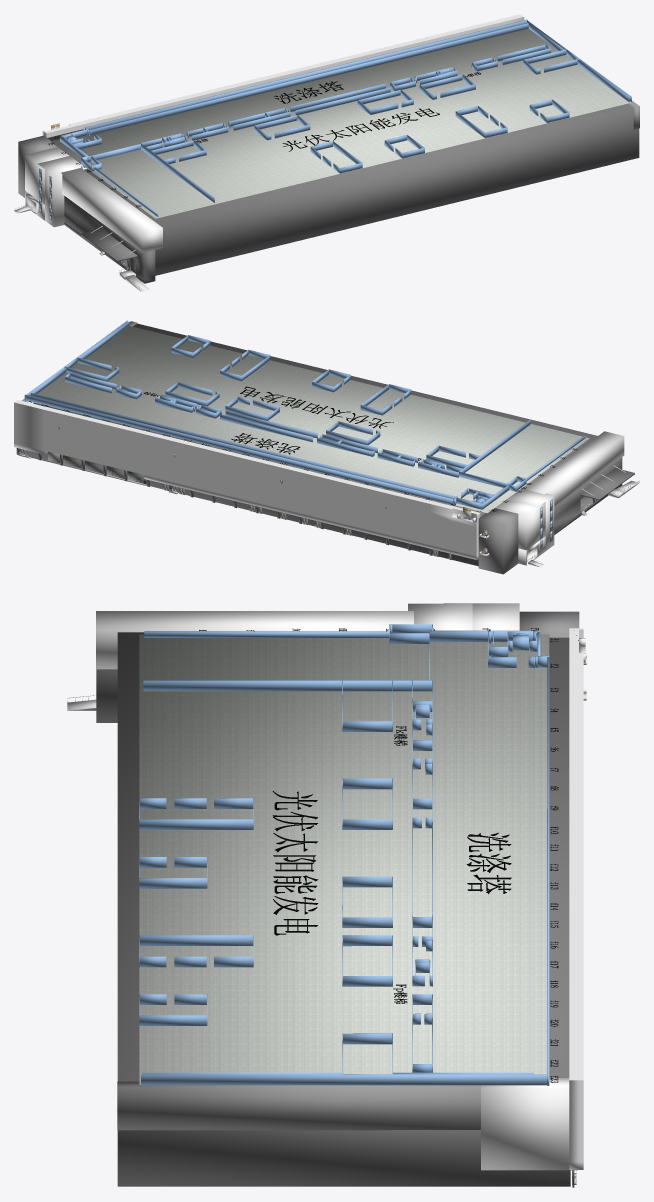
The model's file is 6f_mini.gltf.
The picture shows the model from 3 angles, top to bottom: view 1: azimuth 30°, elevation 25°; view 2: azimuth 150°, elevation 25°; view 3: azimuth 270°, elevation 25°; orthographic projection. The views are drawn at different scales.
Visible parts, largest first — view 1: fab_n2_dimian_rf, fab_n2_waiguan_r_83, fab_n2_waiguan_r_93, fab_n2_waiguan_r_85, fab_n2_qiang_rf_61, fab_n2_qiang_rf_60, fab_n2_waiguan_r_244, fab_n2_waiguan_r_76, fab_n2_waiguan_r_206, fab_n2_waiguan_r_62, fab_n2_waiguan_r_82, guangfu (+3 smaller); view 2: fab_n2_dimian_rf, fab_n2_waiguan_r_85, fab_n2_waiguan_r_83, fab_n2_waiguan_r_93, fab_n2_qiang_rf_60, fab_n2_waiguan_r_82, fab_n2_qiang_rf_61, fab_n2_waiguan_r_244, fab_n2_waiguan_r_206, fab_n2_waiguan_r_76, fab_n2_waiguan_r_62, guangfu (+4 smaller); view 3: fab_n2_dimian_rf, fab_n2_waiguan_r_83, fab_n2_waiguan_r_1, fab_n2_waiguan_r_85, fab_n2_waiguan_r_84, fab_n2_waiguan_r_93, fab_n2_qiang_rf_42, fab_n2_qiang_rf_16, guangfu, fab_n2_qiang_rf_1, fab_n2_waiguan_r_76, fab_n2_waiguan_r_82 (+7 smaller).
Boxes of the visible parts, x1,y1,x2,y2 form: fab_n2_dimian_rf: (50, 28, 631, 218); fab_n2_waiguan_r_83: (47, 104, 639, 275); fab_n2_waiguan_r_93: (61, 168, 162, 252); fab_n2_waiguan_r_85: (42, 14, 524, 137); fab_n2_qiang_rf_61: (90, 23, 528, 134); fab_n2_qiang_rf_60: (86, 19, 527, 129); fab_n2_waiguan_r_244: (64, 196, 155, 283); fab_n2_waiguan_r_76: (37, 156, 86, 227); fab_n2_waiguan_r_206: (25, 147, 69, 204); fab_n2_waiguan_r_62: (81, 229, 137, 261); fab_n2_waiguan_r_82: (18, 135, 56, 197); guangfu: (282, 108, 439, 151); fab_n2_dimian_rf: (33, 326, 589, 513); fab_n2_waiguan_r_85: (14, 400, 480, 560); fab_n2_waiguan_r_83: (19, 323, 597, 566); fab_n2_waiguan_r_93: (525, 431, 624, 506); fab_n2_qiang_rf_60: (24, 394, 453, 504); fab_n2_waiguan_r_82: (478, 508, 518, 574); fab_n2_qiang_rf_61: (31, 393, 455, 499); fab_n2_waiguan_r_244: (554, 457, 622, 534); fab_n2_waiguan_r_206: (495, 499, 545, 550); fab_n2_waiguan_r_76: (507, 487, 554, 550); fab_n2_waiguan_r_62: (580, 468, 634, 499); guangfu: (240, 386, 393, 428); fab_n2_dimian_rf: (139, 634, 549, 1084); fab_n2_waiguan_r_83: (117, 632, 570, 1186); fab_n2_waiguan_r_1: (117, 1081, 480, 1130); fab_n2_waiguan_r_85: (569, 628, 583, 1169); fab_n2_waiguan_r_84: (481, 1078, 577, 1170); fab_n2_waiguan_r_93: (96, 611, 413, 669); fab_n2_qiang_rf_42: (141, 1074, 546, 1085); fab_n2_qiang_rf_16: (143, 680, 432, 691); guangfu: (272, 791, 318, 935); fab_n2_qiang_rf_1: (144, 631, 389, 637); fab_n2_waiguan_r_76: (408, 603, 472, 630); fab_n2_waiguan_r_82: (519, 611, 579, 637).
Bounding box in the file's own units: 349 × 37.99 × 154.
Materials: 41 (29 with a texture image).
